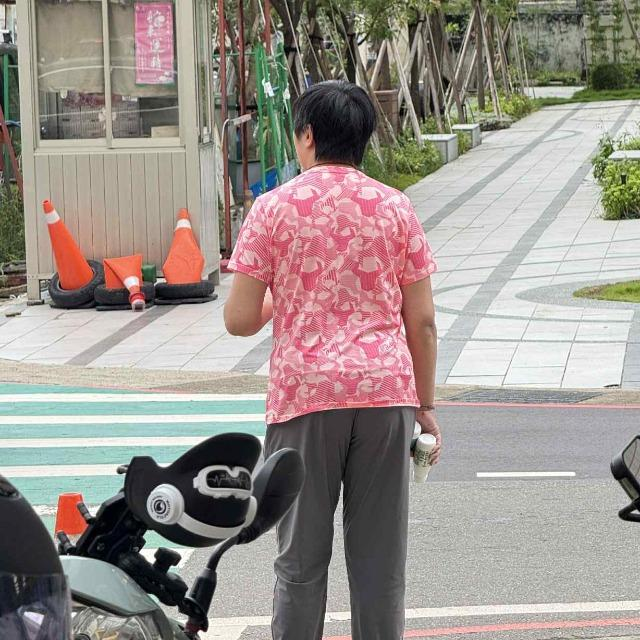NoHelmet: (289, 79, 383, 168)
NoVest: (249, 176, 431, 416)
